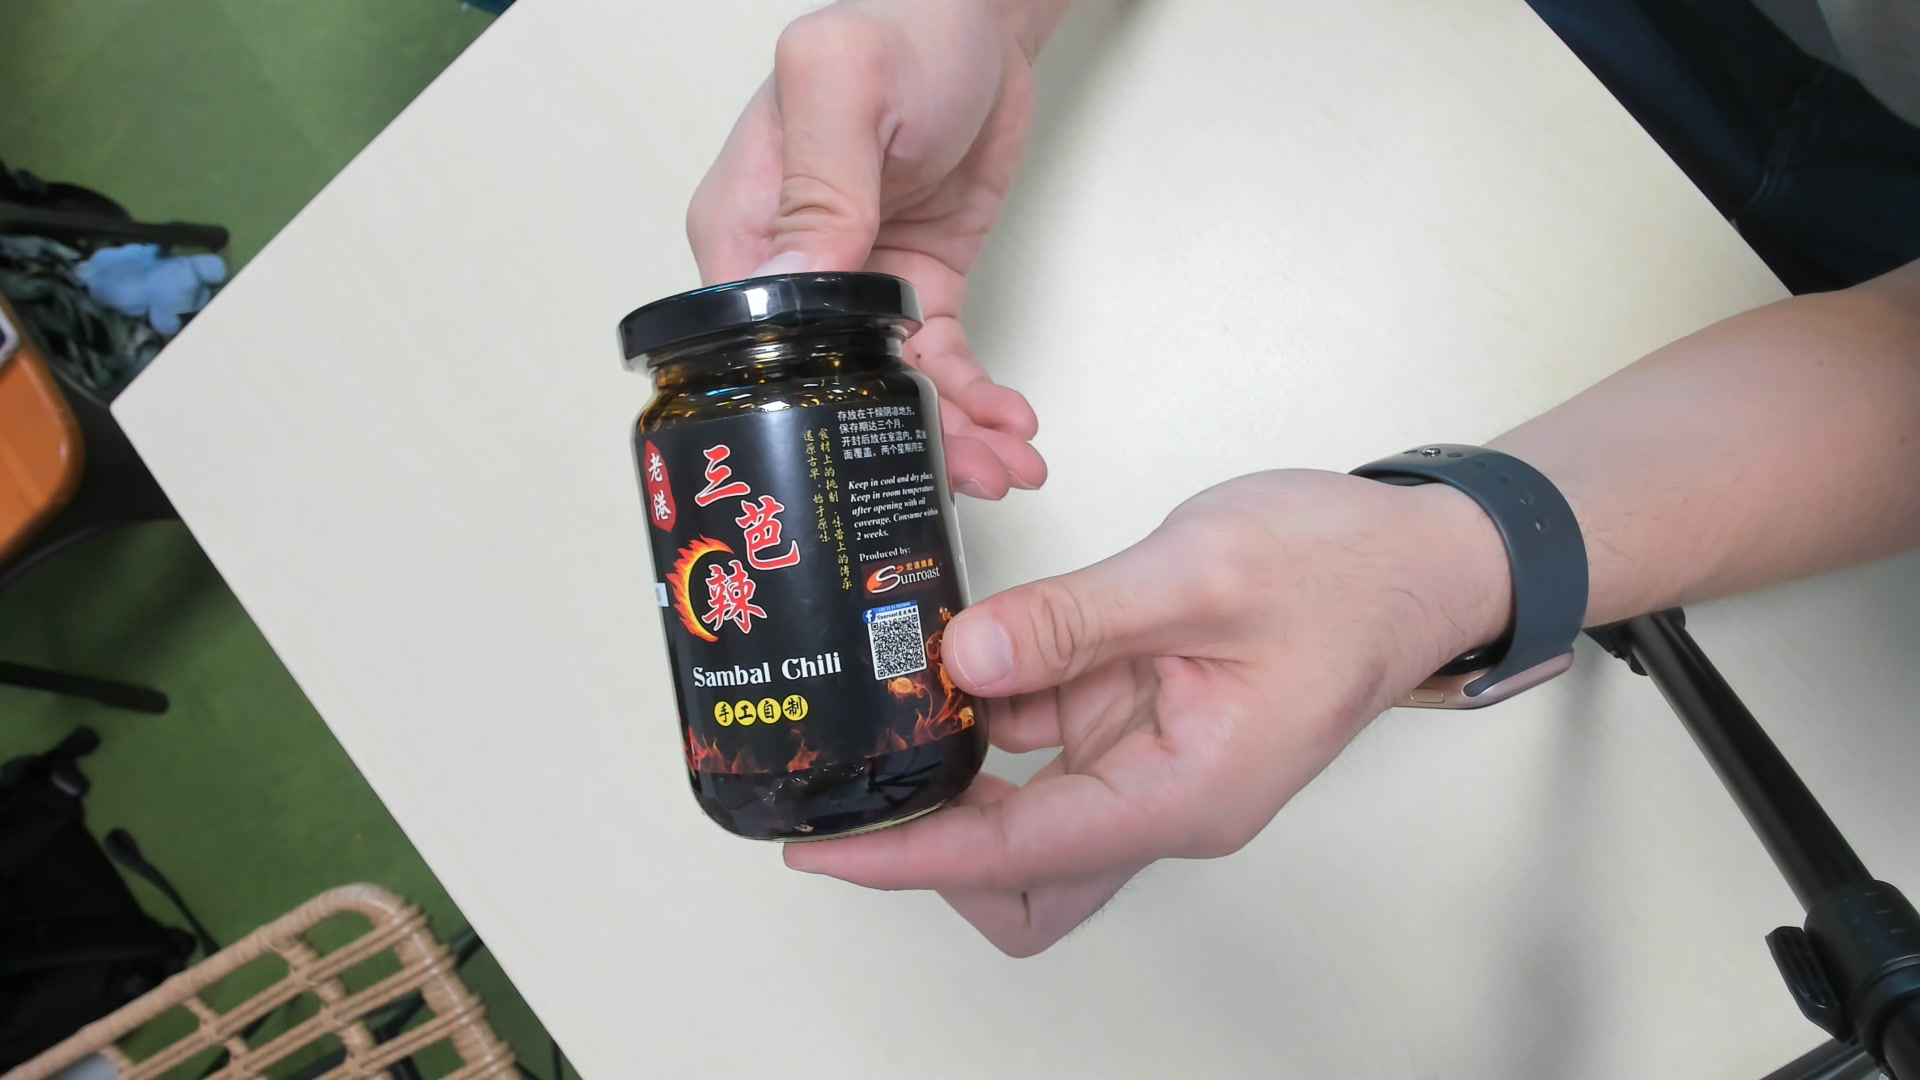OtherSauceDressing_300-399g_NonHalal_NonHealthy: (612, 258, 986, 851)
